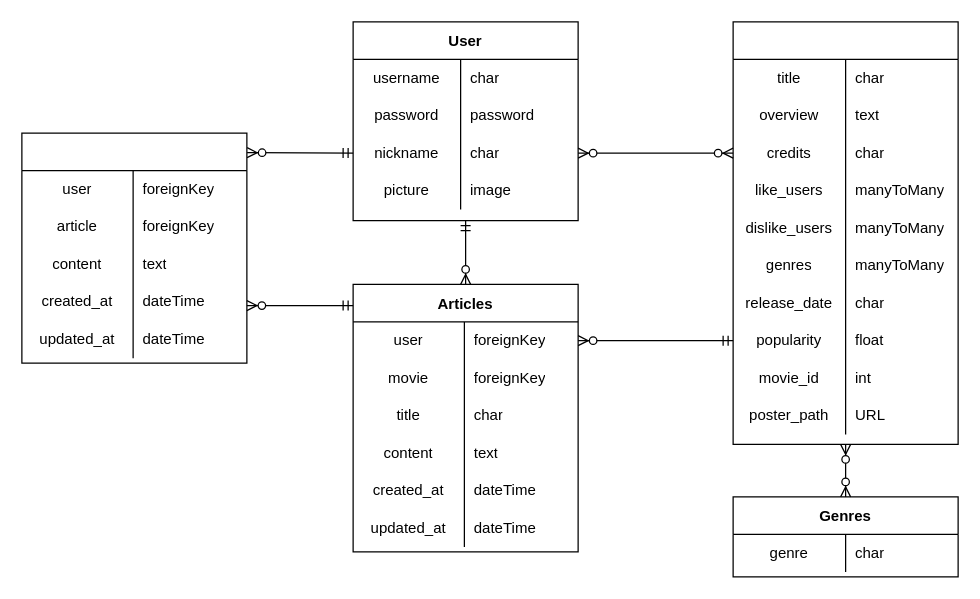
The diagram is 980 pixels wide and 599 high, and some of its shapes have lost their labels. The shapes that lost their labels are listed below. From the top down, each one's box as (x1, y1, x2, y2) in pixels, then its label:
(21, 132, 247, 363): Comments
(732, 21, 958, 444): Movies
